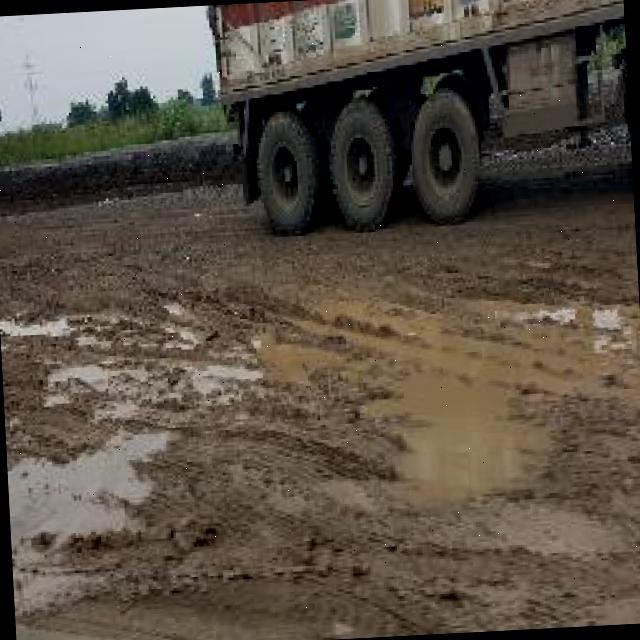waterlogging: (354, 310, 556, 512), (5, 424, 164, 554)
